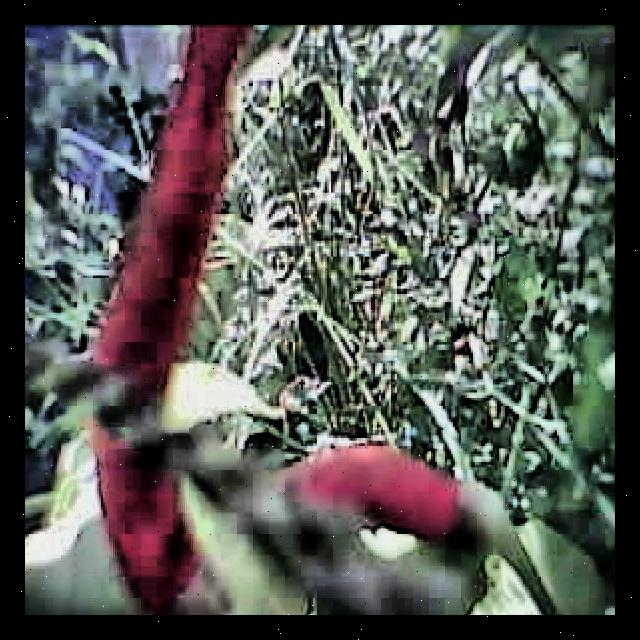Cabai: (108, 25, 242, 373), (289, 444, 480, 550)
